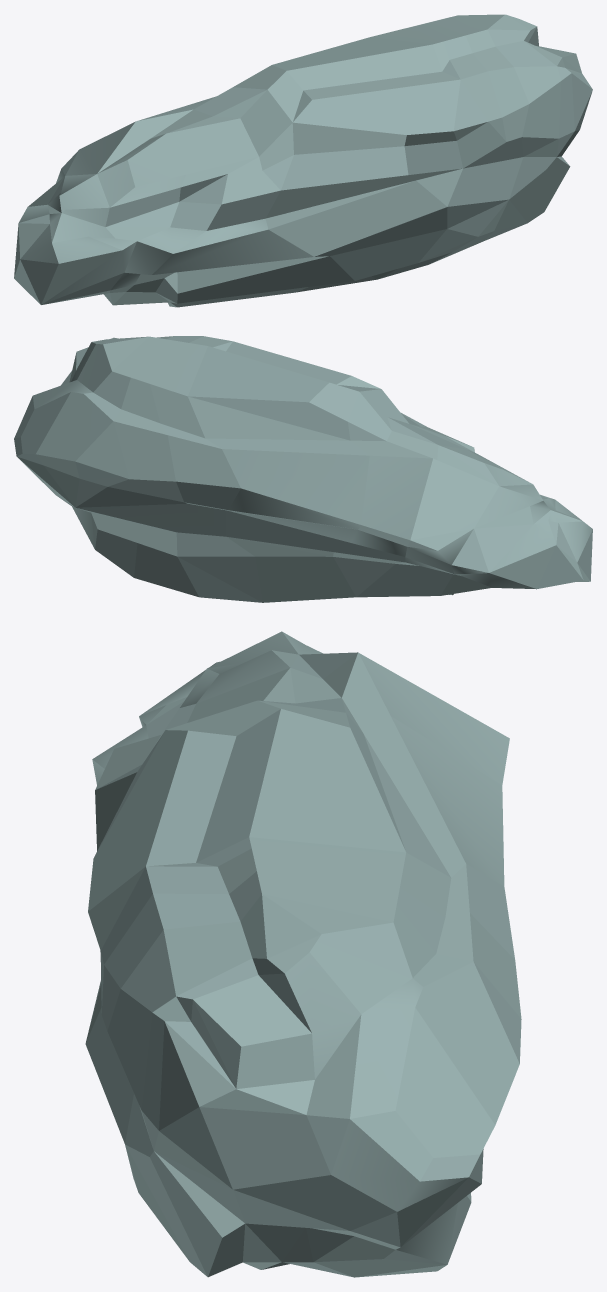
File: Rock_Sharp2.fbx
3 renders of one model, top to bottom at view 1: azimuth 30°, elevation 25°; view 2: azimuth 150°, elevation 25°; view 3: azimuth 270°, elevation 25°, orthographic. The views are drawn at different scales.
Visible parts, largest first — view 1: Sharp_Pillar2566; view 2: Sharp_Pillar2566; view 3: Sharp_Pillar2566.
Part boxes in pixels (x1,y1,x2,y2): Sharp_Pillar2566: (14, 14, 592, 307); Sharp_Pillar2566: (14, 336, 592, 602); Sharp_Pillar2566: (85, 631, 521, 1277).
Size of the model in its own units: 10493 by 3837 by 3644.
